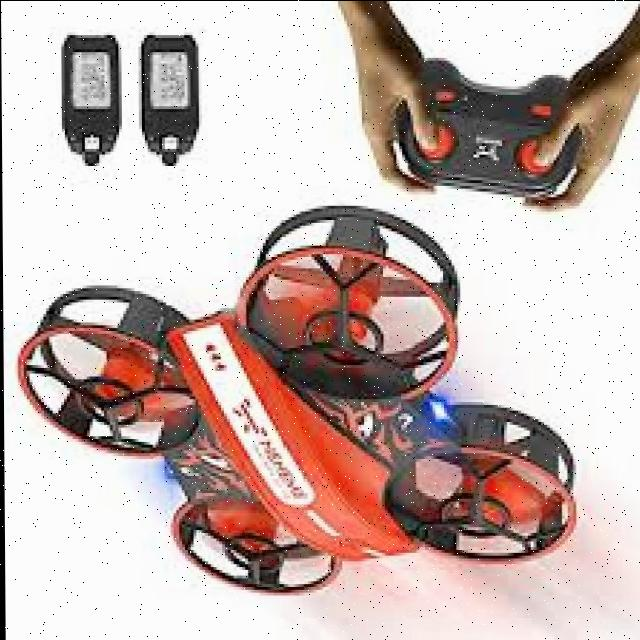drone: (1, 197, 596, 600)
